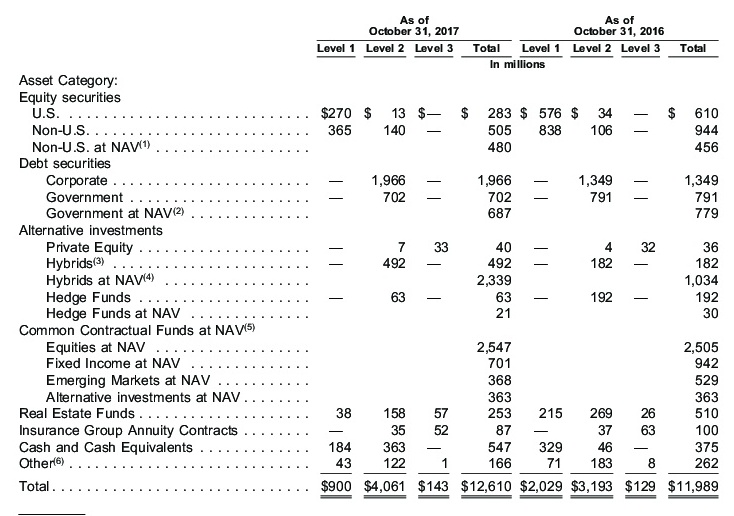table: (0, 0, 734, 516)
